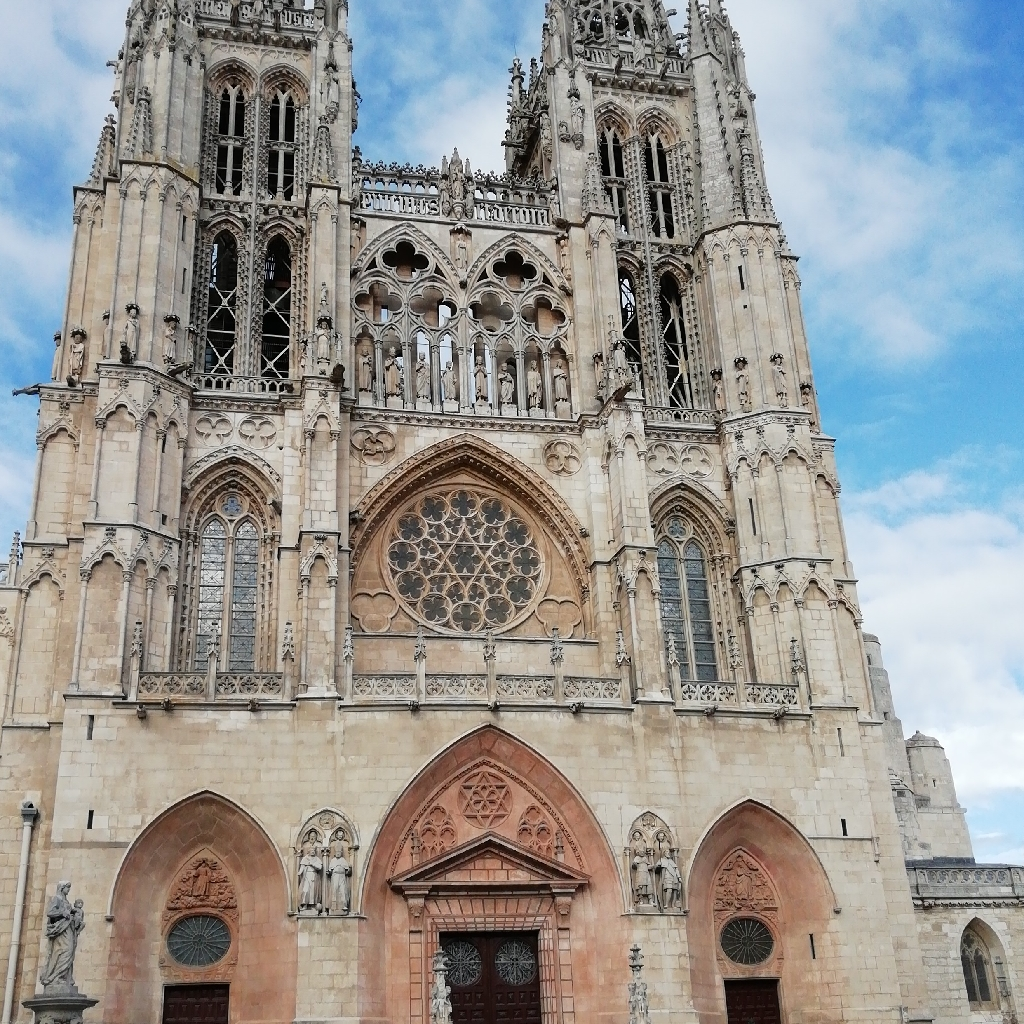arco-apuntado: (351, 436, 596, 599), (359, 716, 607, 843), (105, 787, 291, 915), (680, 795, 843, 904), (353, 222, 460, 313), (465, 230, 571, 319), (181, 451, 281, 529), (648, 480, 731, 562)
fronton: (380, 831, 593, 899)
pinaculo-gotico: (86, 110, 122, 188), (123, 83, 155, 159), (579, 149, 612, 214), (309, 114, 339, 184), (506, 55, 528, 129)
